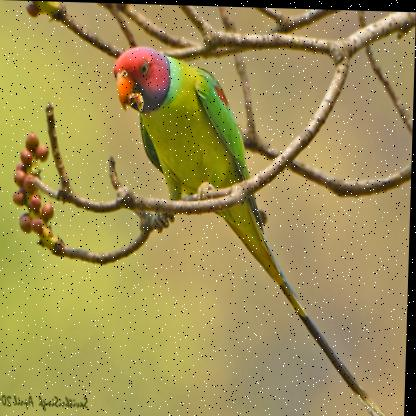Burung: (106, 44, 406, 415)
